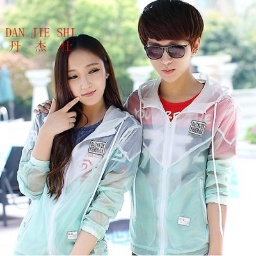face: (138, 1, 207, 83), (56, 37, 120, 111)
